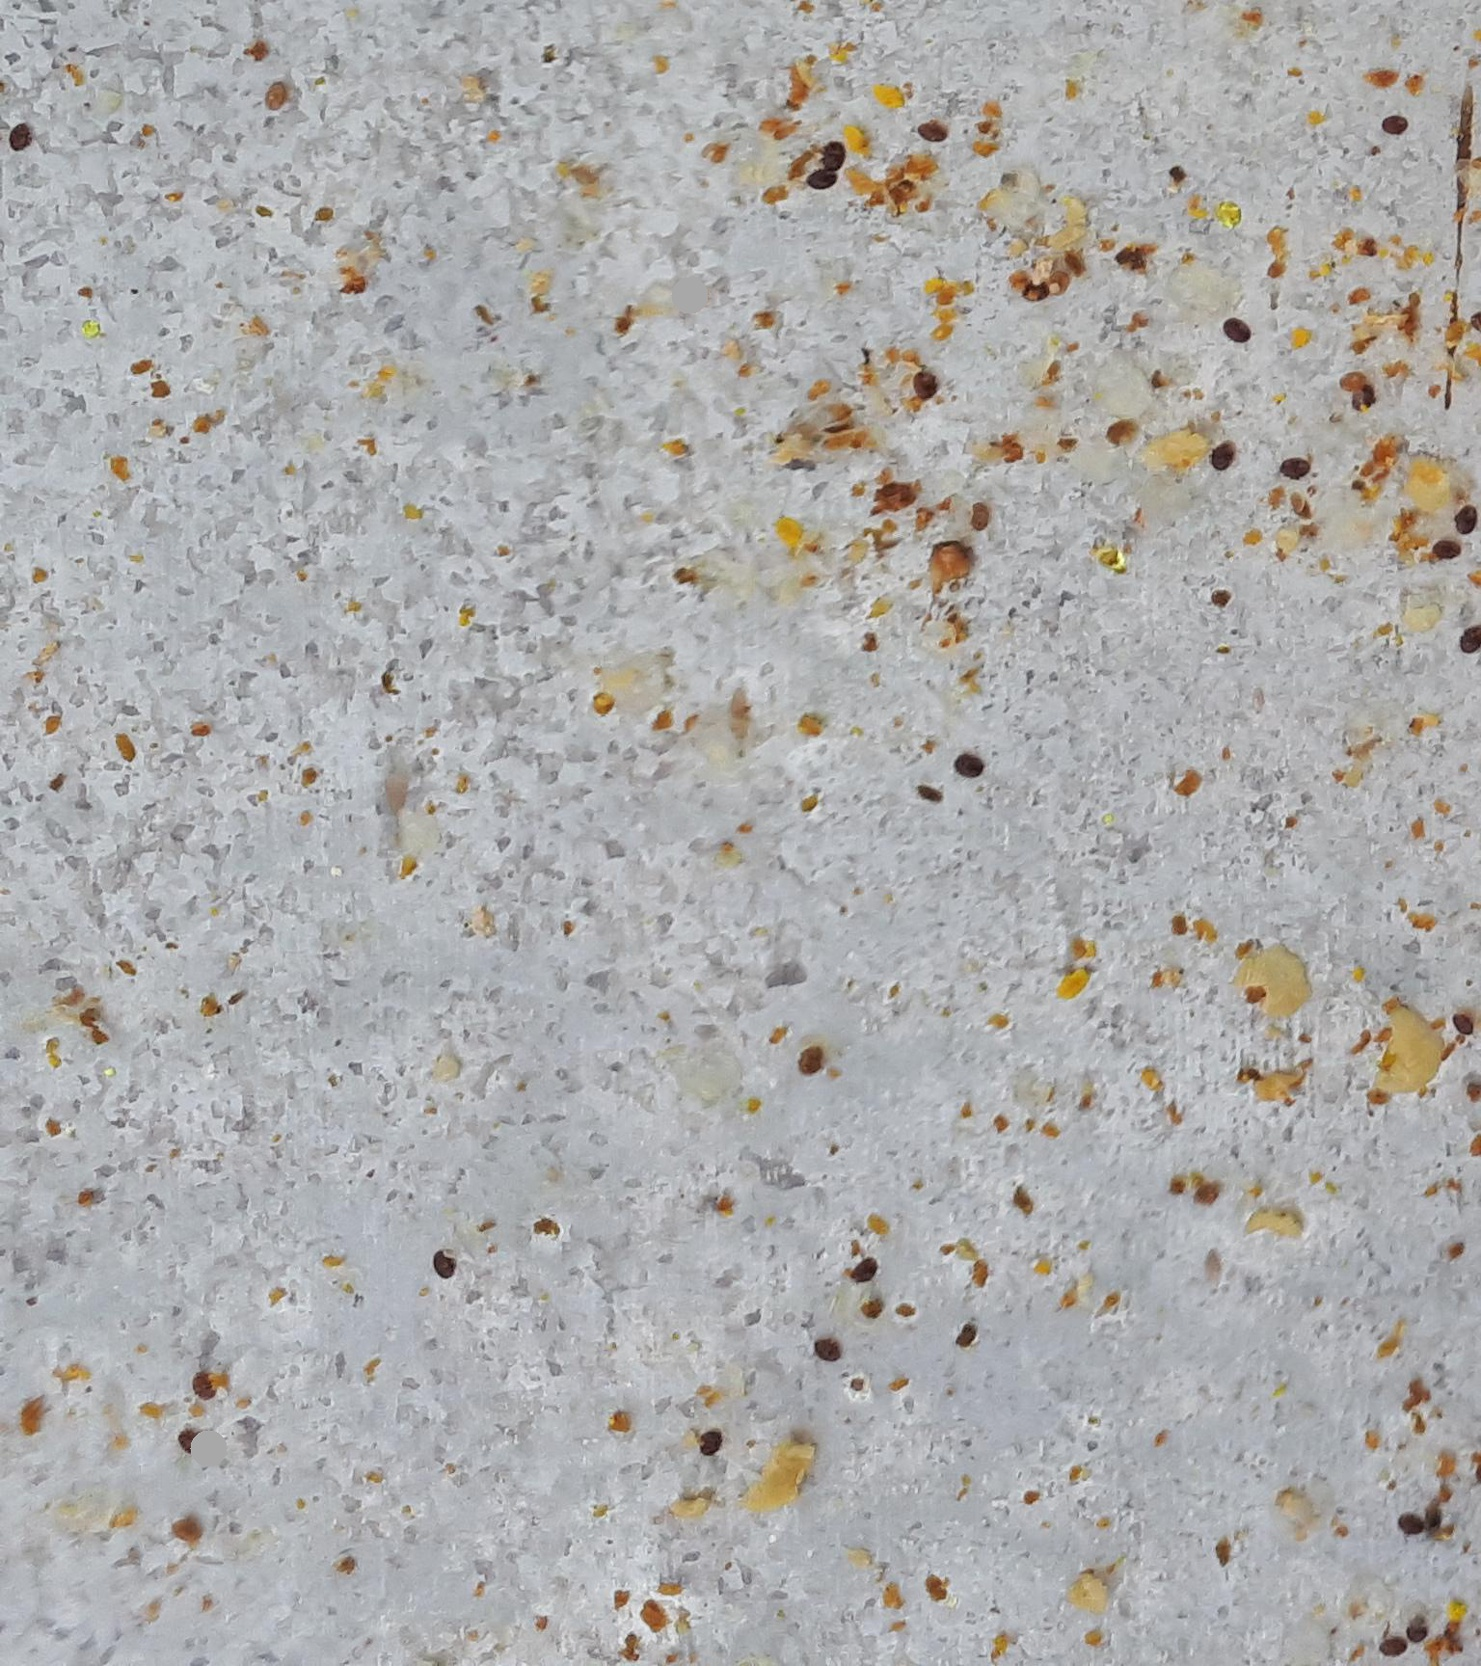Varroa: (843, 1248, 883, 1288), (813, 159, 851, 194), (1430, 531, 1462, 563), (695, 1420, 723, 1454), (1207, 442, 1237, 473), (426, 1247, 456, 1278), (818, 132, 848, 163), (915, 113, 946, 143), (1219, 317, 1249, 348), (956, 749, 986, 779), (257, 79, 287, 109), (1278, 448, 1307, 478), (908, 373, 936, 403), (812, 1336, 841, 1364), (1451, 1010, 1480, 1037), (1392, 1507, 1421, 1534), (11, 126, 39, 154), (177, 1429, 204, 1456), (1380, 112, 1407, 139)
